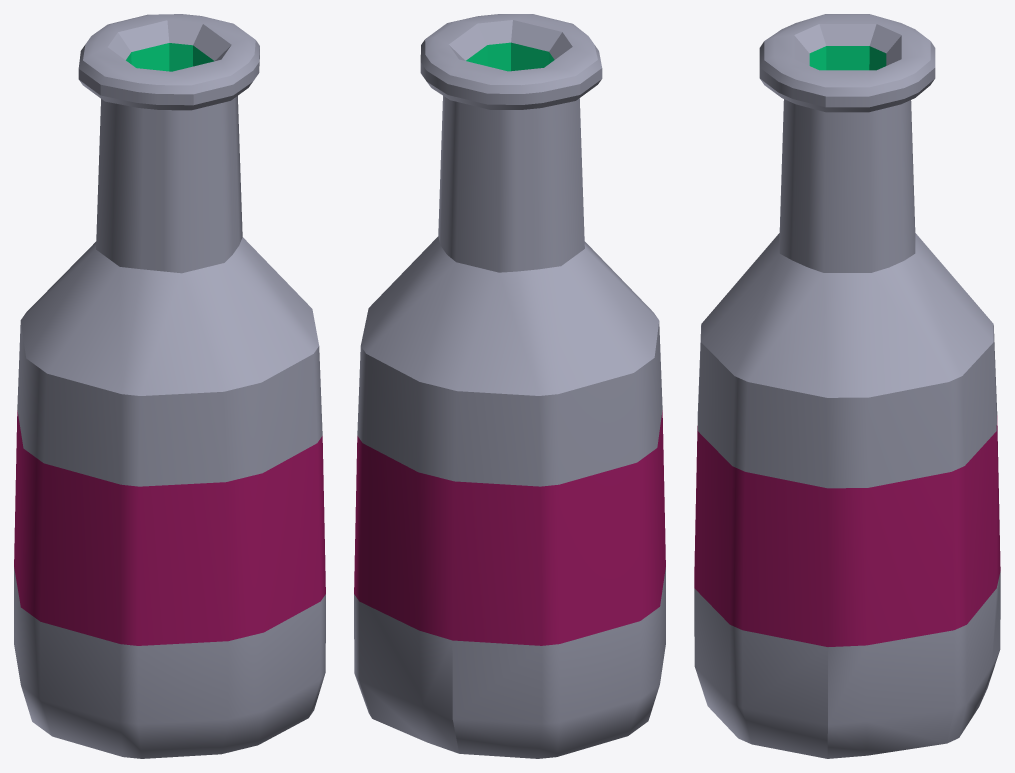
The model's file is LabeledBottle.fbx.
3 views of the same model, side by side, from view 1: azimuth 30°, elevation 25°; view 2: azimuth 150°, elevation 25°; view 3: azimuth 270°, elevation 25° (orthographic).
Parts seen in each view (by area): view 1: polySurface146; view 2: polySurface146; view 3: polySurface146.
Part boxes in pixels (x1=…): polySurface146: x1=14, y1=14, x2=325, y2=758; polySurface146: x1=354, y1=14, x2=665, y2=758; polySurface146: x1=694, y1=14, x2=1000, y2=758.
Size of the model in its own units: 0.255 by 0.5885 by 0.2445.
